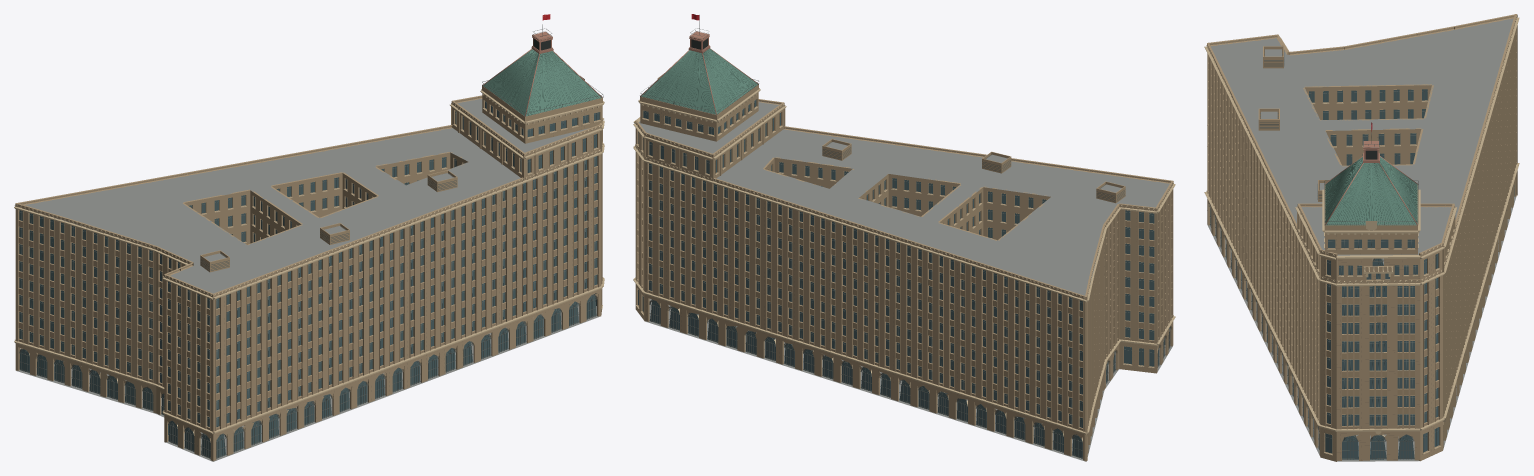
File: bund20.glb
3 renders of one model, left to right at view 1: azimuth 30°, elevation 25°; view 2: azimuth 150°, elevation 25°; view 3: azimuth 270°, elevation 25°, orthographic. The views are drawn at different scales.
Bounding box in the file's own units: 151 × 83 × 74.67.
